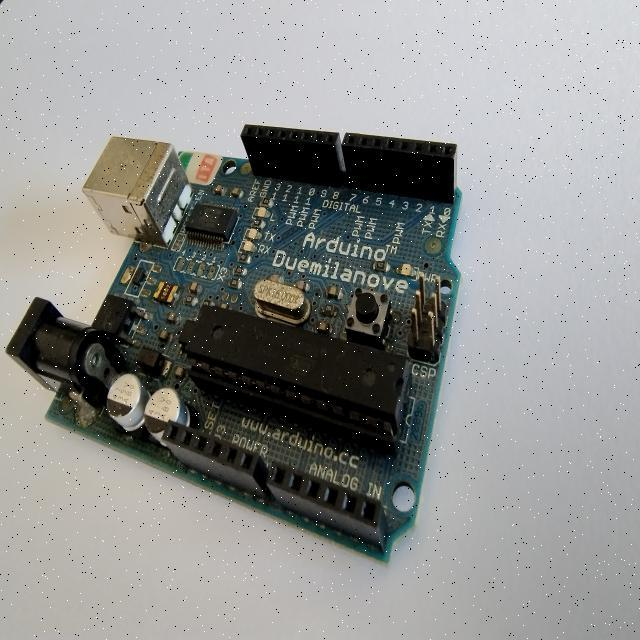arduino: (3, 120, 472, 563)
